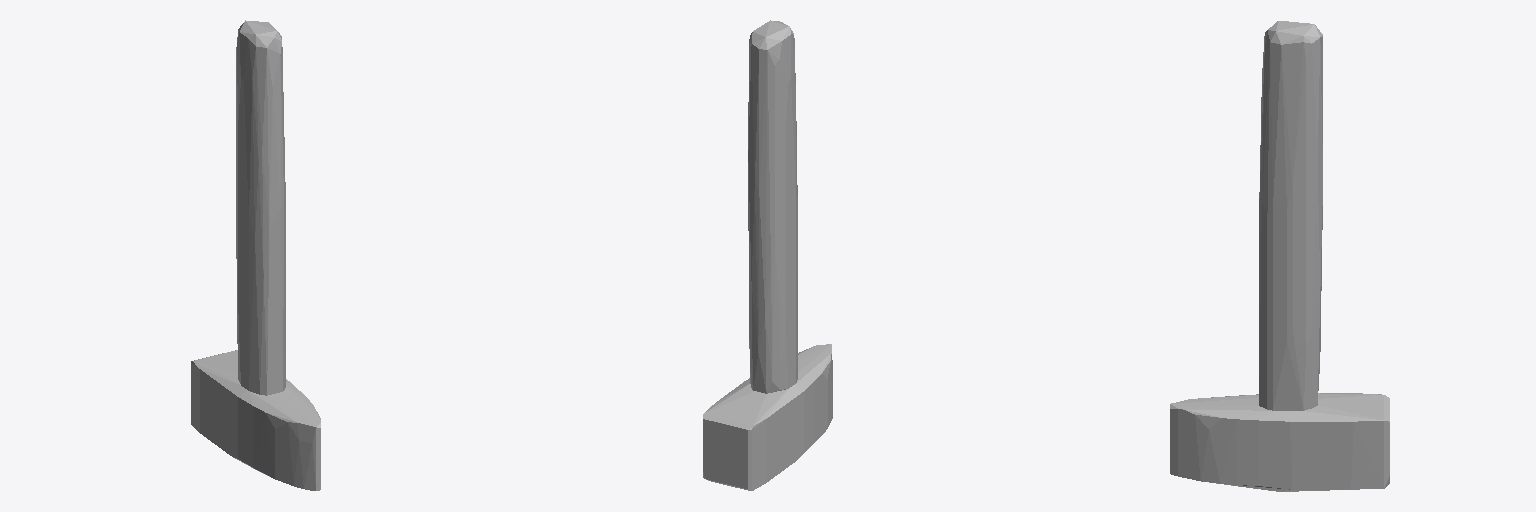
robot.urdf — root:
<robot name="root">
  <link name="link_31340e691294a750d30ee0b5a9888c0b_convex_piece_0">
    <inertial>
      <origin rpy="0 0 0" xyz="0 0 0"/>
      <mass value="-3.97E-07"/>
      <inertia ixx="5.84E-08" ixy="1.28E-12" ixz="-6.93E-11" iyy="5.85E-08" iyz="-1.09E-09" izz="-3.93E-11"/>
    </inertial>
    <visual>
      <origin rpy="0 0 0" xyz="0 0 0"/>
      <geometry>
        <mesh filename="31340e691294a750d30ee0b5a9888c0b_convex_piece_0.obj" scale="1.0000E+00"/>
      </geometry>
      <material name="">
        <color rgba="7.50E-01 7.50E-01 7.50E-01 1"/>
      </material>
    </visual>
    <collision>
      <origin rpy="0 0 0" xyz="0 0 0"/>
      <geometry>
        <mesh filename="31340e691294a750d30ee0b5a9888c0b_convex_piece_0.obj" scale="1.0000E+00"/>
      </geometry>
    </collision>
  </link>
  <link name="link_31340e691294a750d30ee0b5a9888c0b_convex_piece_1">
    <inertial>
      <origin rpy="0 0 0" xyz="0 0 0"/>
      <mass value="-3.58E-07"/>
      <inertia ixx="5.32E-08" ixy="1.25E-12" ixz="-6.27E-11" iyy="5.32E-08" iyz="-1.04E-09" izz="1.24E-11"/>
    </inertial>
    <visual>
      <origin rpy="0 0 0" xyz="0 0 0"/>
      <geometry>
        <mesh filename="31340e691294a750d30ee0b5a9888c0b_convex_piece_1.obj" scale="1.0000E+00"/>
      </geometry>
      <material name="">
        <color rgba="7.50E-01 7.50E-01 7.50E-01 1"/>
      </material>
    </visual>
    <collision>
      <origin rpy="0 0 0" xyz="0 0 0"/>
      <geometry>
        <mesh filename="31340e691294a750d30ee0b5a9888c0b_convex_piece_1.obj" scale="1.0000E+00"/>
      </geometry>
    </collision>
  </link>
  <joint name="link_31340e691294a750d30ee0b5a9888c0b_convex_piece_1_joint" type="fixed">
    <origin rpy="0 0 0" xyz="0 0 0"/>
    <parent link="link_31340e691294a750d30ee0b5a9888c0b_convex_piece_0"/>
    <child link="link_31340e691294a750d30ee0b5a9888c0b_convex_piece_1"/>
  </joint>
</robot>

--- Render facts (derived) ---
Views: 3 orthographic renders of the robot side by side, from view 1: azimuth 30°, elevation 25°; view 2: azimuth 150°, elevation 25°; view 3: azimuth 270°, elevation 25°.
Model root with 2 links and 1 joints (1 fixed), rooted at link_31340e691294a750d30ee0b5a9888c0b_convex_piece_0, posed every joint at zero.
Visible links, largest first — view 1: link_31340e691294a750d30ee0b5a9888c0b_convex_piece_1, link_31340e691294a750d30ee0b5a9888c0b_convex_piece_0; view 2: link_31340e691294a750d30ee0b5a9888c0b_convex_piece_1, link_31340e691294a750d30ee0b5a9888c0b_convex_piece_0; view 3: link_31340e691294a750d30ee0b5a9888c0b_convex_piece_1, link_31340e691294a750d30ee0b5a9888c0b_convex_piece_0.
Boxes of the visible links, <box> form: link_31340e691294a750d30ee0b5a9888c0b_convex_piece_1: <box>236,20,285,395</box>; link_31340e691294a750d30ee0b5a9888c0b_convex_piece_0: <box>191,350,320,490</box>; link_31340e691294a750d30ee0b5a9888c0b_convex_piece_1: <box>748,20,797,393</box>; link_31340e691294a750d30ee0b5a9888c0b_convex_piece_0: <box>703,344,832,490</box>; link_31340e691294a750d30ee0b5a9888c0b_convex_piece_1: <box>1259,21,1322,410</box>; link_31340e691294a750d30ee0b5a9888c0b_convex_piece_0: <box>1170,393,1389,491</box>.
Bounding box of the posed robot: 0.0138 × 0.0455 × 0.1041 m (x, y, z).
Meshes: 2 distinct files referenced, 2 mesh visuals loaded (2 OBJ).
